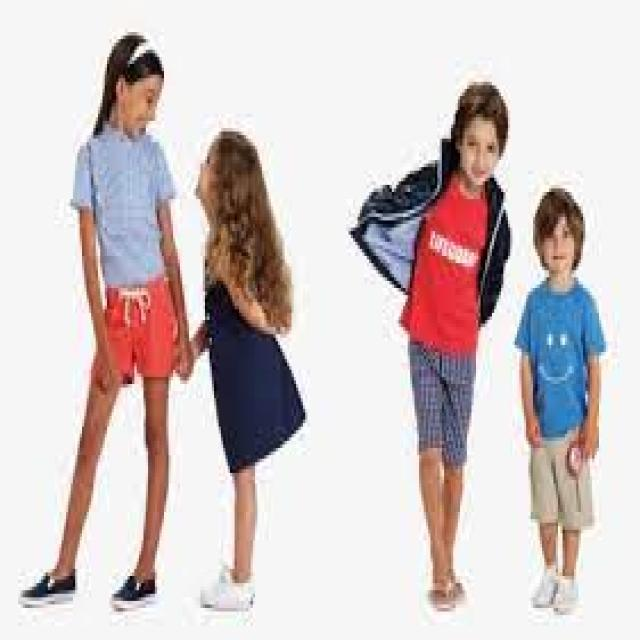child: (16, 21, 191, 630), (348, 71, 520, 626), (182, 110, 328, 640), (510, 178, 617, 622)
